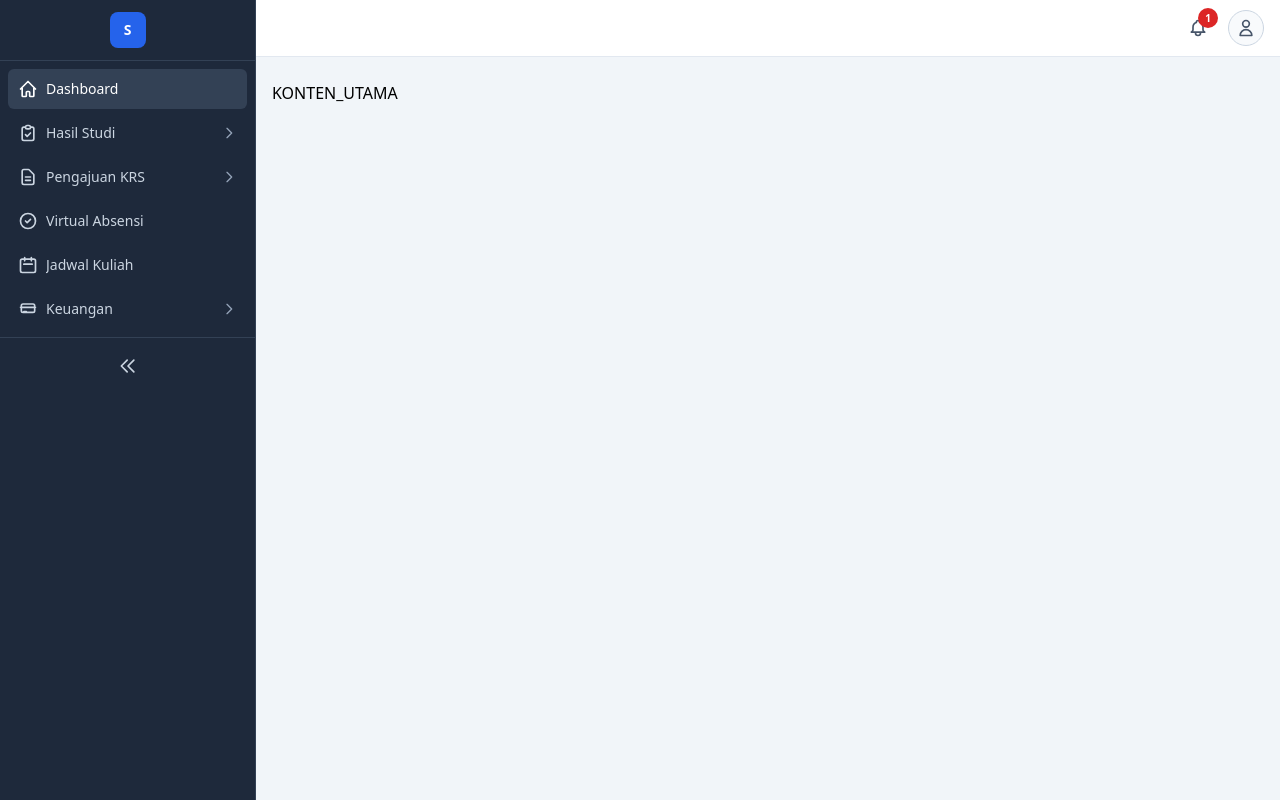
Test: AppLayout (T1.11d polish + keluhan #5 sidebar ikon & #26 dropdown avatar) › panel — Tandai dibaca per item (optimistik) → tombol hilang & badge unread berkurang
Click the button named "Notifikasi" at (1198, 28), box left=1180, top=10, right=1216, bottom=46
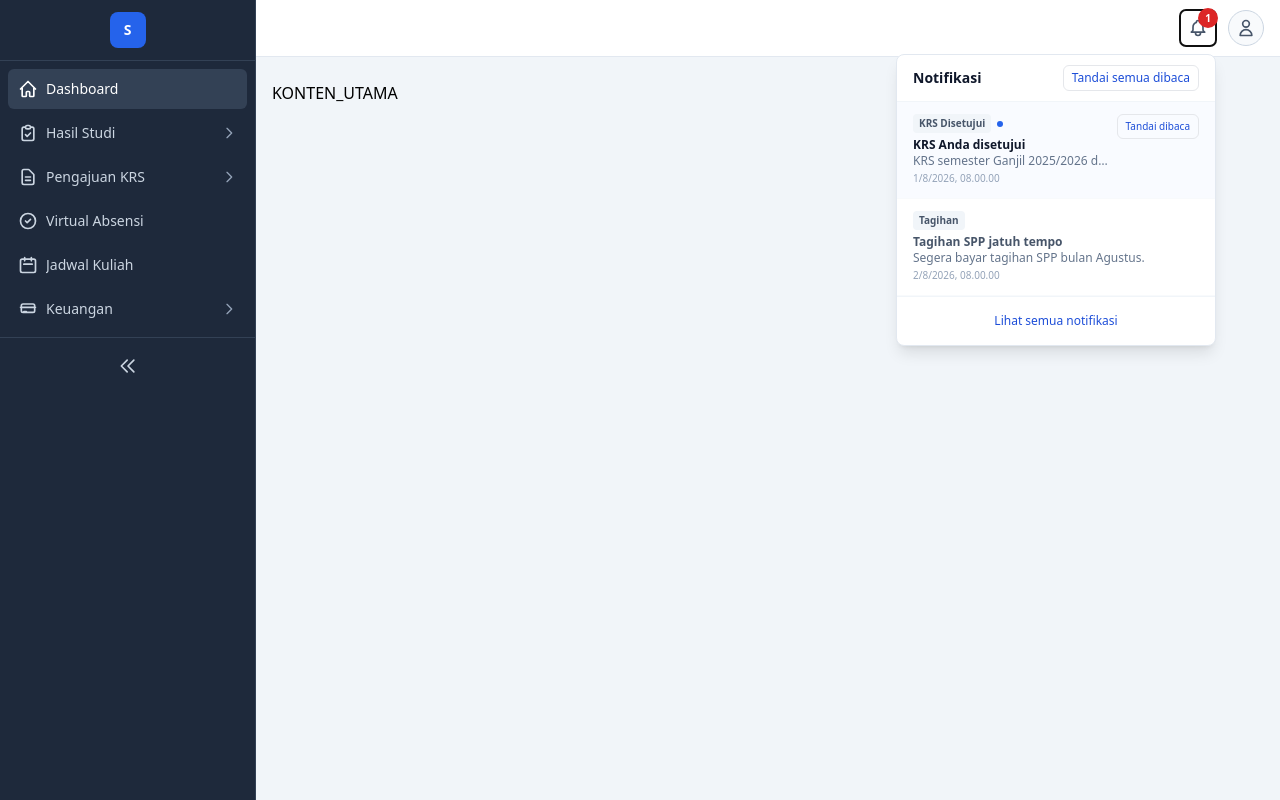
Expected: the text "1" is shown, left=1198, top=8, right=1218, bottom=28
Now the text "KRS Anda disetujui" is shown, box left=913, top=136, right=1025, bottom=153
Click the button "Tandai dibaca" at (1158, 126), box left=1117, top=114, right=1199, bottom=139
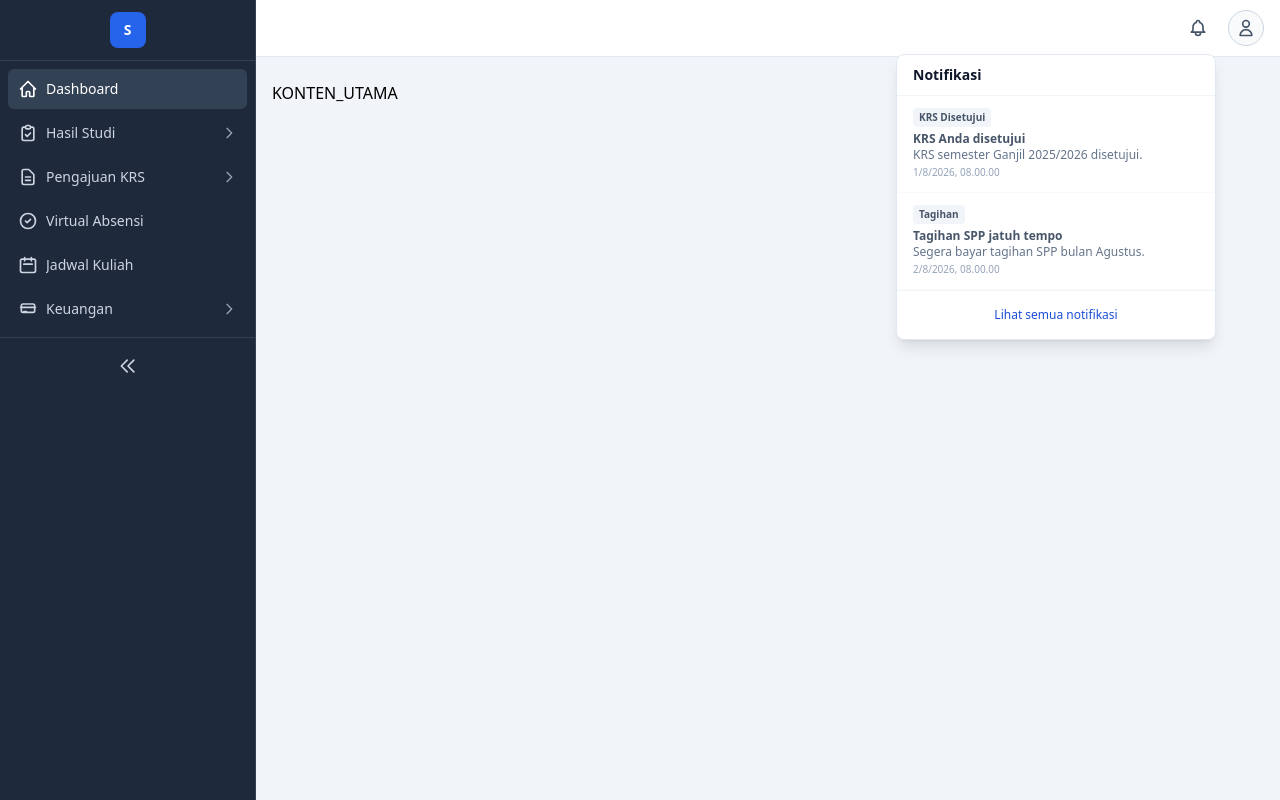
Now the button "Tandai dibaca" is gone
